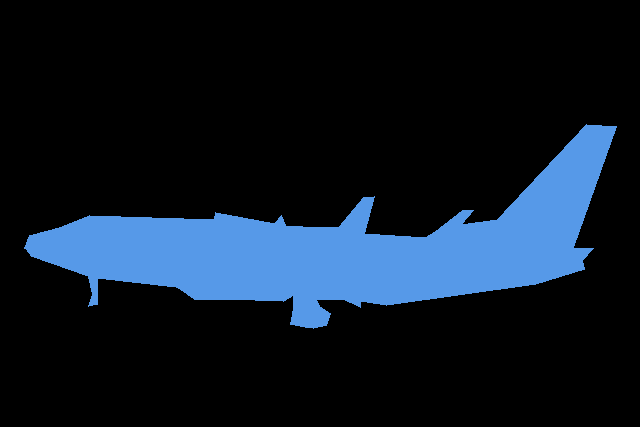Airplane: (24, 124, 617, 328)
